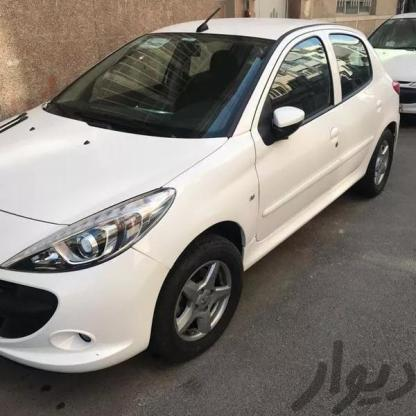Car: (0, 18, 404, 409), (362, 0, 416, 155)
